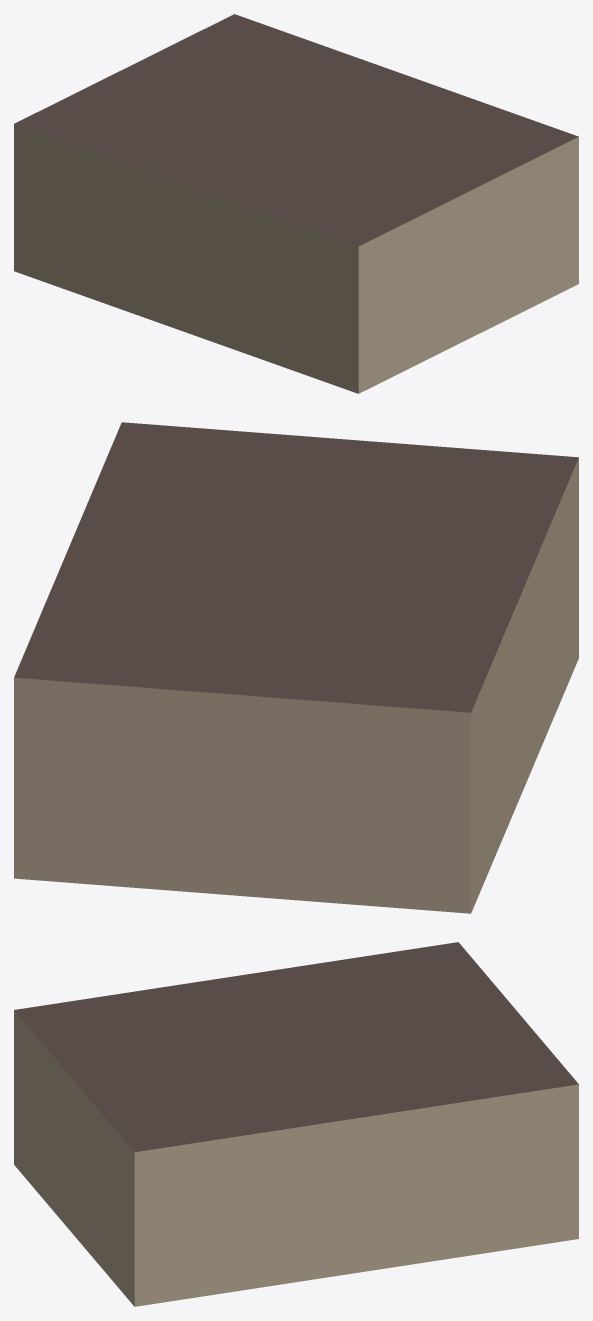
3 views of the same model, one above another, from view 1: azimuth 30°, elevation 25°; view 2: azimuth 150°, elevation 25°; view 3: azimuth 270°, elevation 25° (orthographic). The views are drawn at different scales.
Parts seen in each view (by area): view 1: HP-w859082461; view 2: HP-w859082461; view 3: HP-w859082461.
Part boxes in pixels (bbox=[...]): HP-w859082461: bbox=[14, 14, 578, 393]; HP-w859082461: bbox=[14, 422, 578, 913]; HP-w859082461: bbox=[14, 942, 578, 1306].
Size of the model in its own units: 26.24 by 9 by 29.8.
